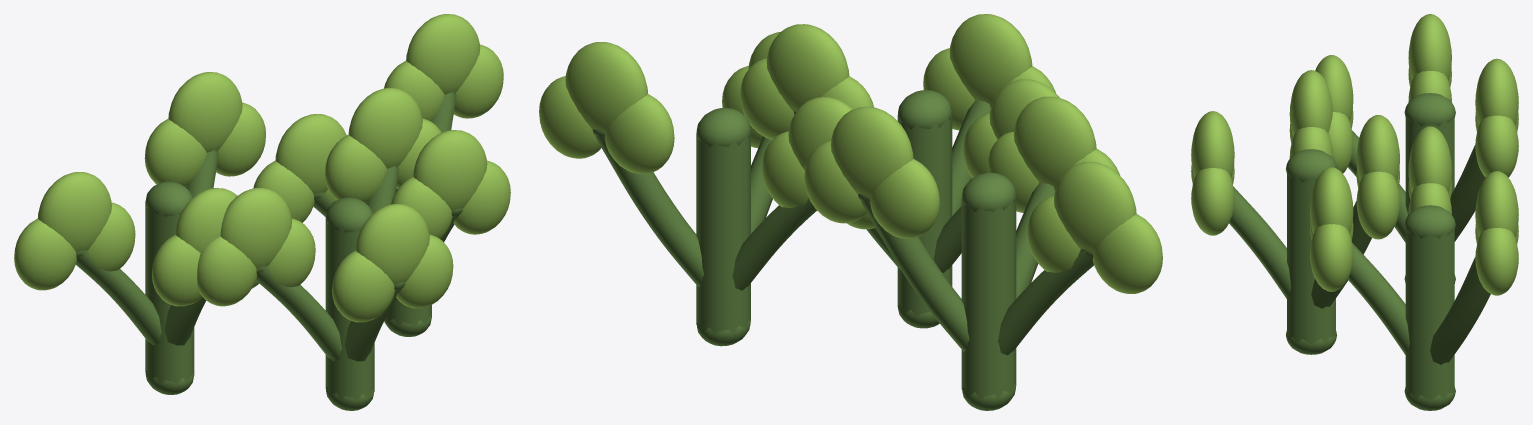
Rendered from crop_2_stage_1.fbx.
3 views of the same model, side by side, from view 1: azimuth 30°, elevation 25°; view 2: azimuth 150°, elevation 25°; view 3: azimuth 270°, elevation 25° (orthographic). The views are drawn at different scales.
Parts seen in each view (by area): view 1: crop_2_stage_1; view 2: crop_2_stage_1; view 3: crop_2_stage_1.
Boxes of the visible parts, bbox=[...] form: crop_2_stage_1: bbox=[14, 14, 510, 410]; crop_2_stage_1: bbox=[539, 14, 1162, 410]; crop_2_stage_1: bbox=[1191, 14, 1518, 410].
Size of the model in its own units: 0.355 by 0.18 by 0.2.
Materials: 1 (1 with a texture image).
